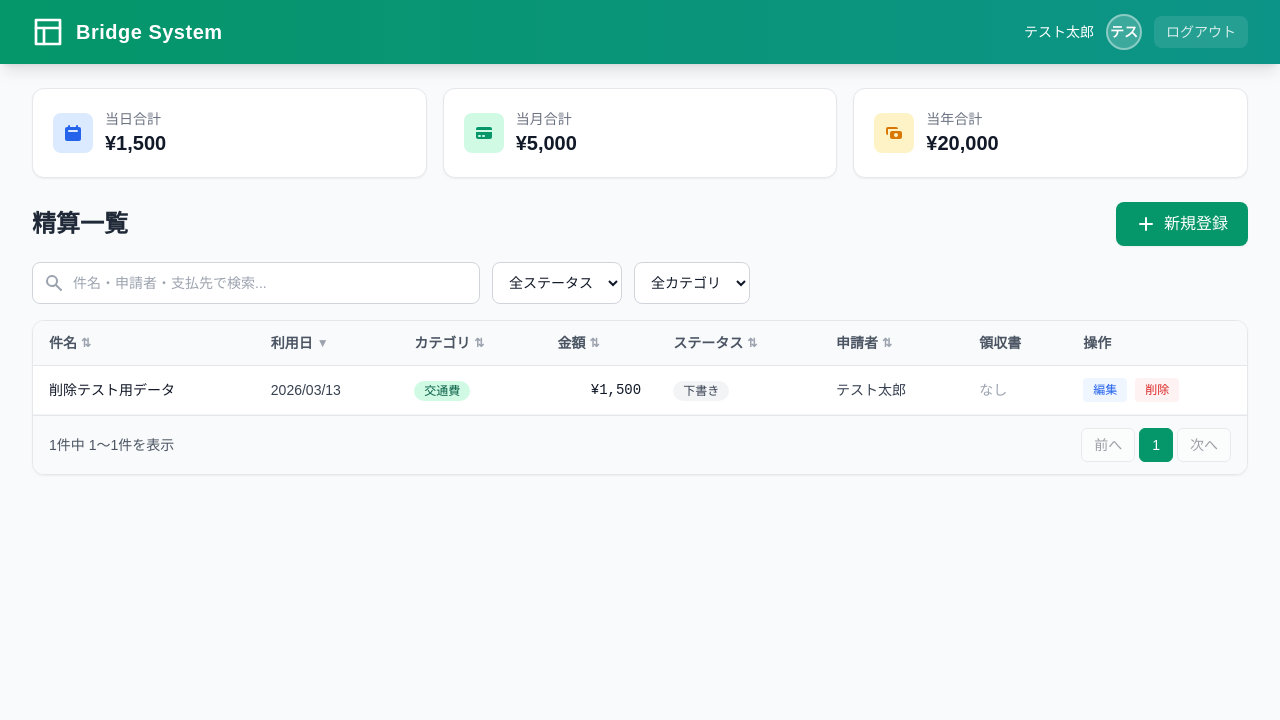
Test: ExpenseList › 削除確認ダイアログ › 削除ボタンで確認ダイアログが表示される
"削除" button is in the table row
Click the button "削除". click: (1157, 390)
box: [1135,378,1179,402]
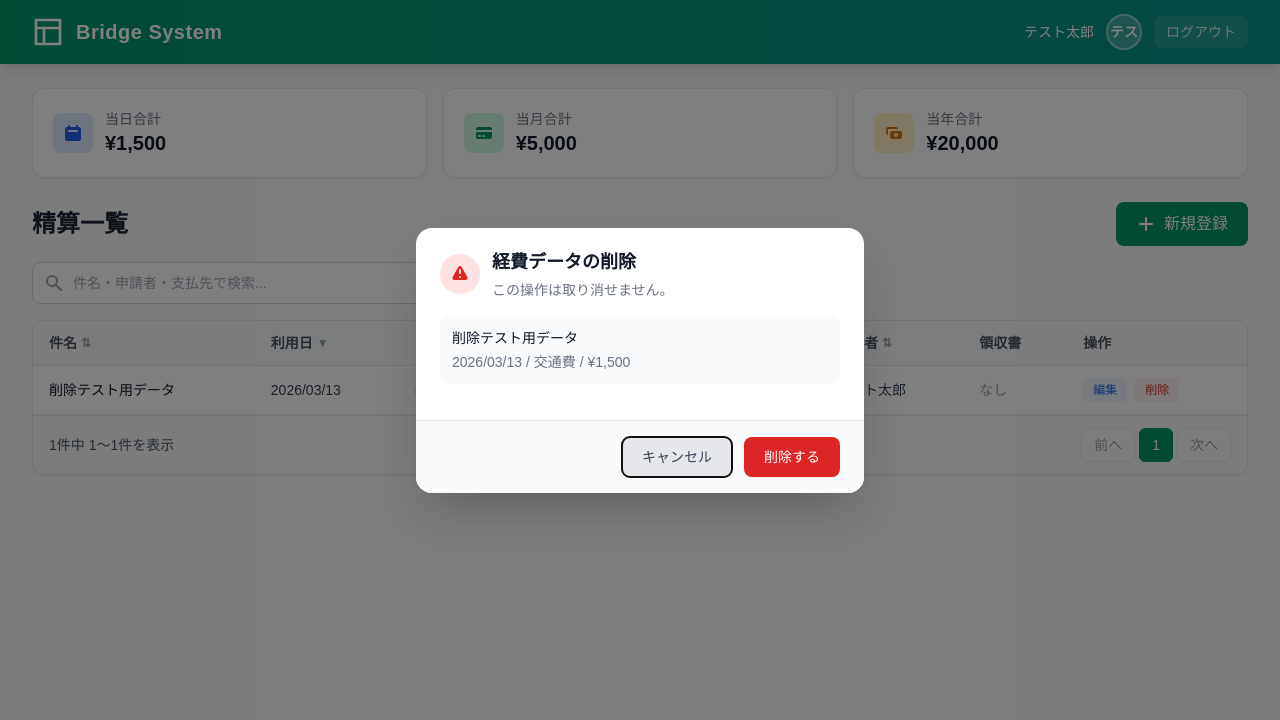
Expected: the heading "経費データの削除" is shown, [492,252,636,272]
Expected: the text "この操作は取り消せません。" is shown, [492,280,674,300]
